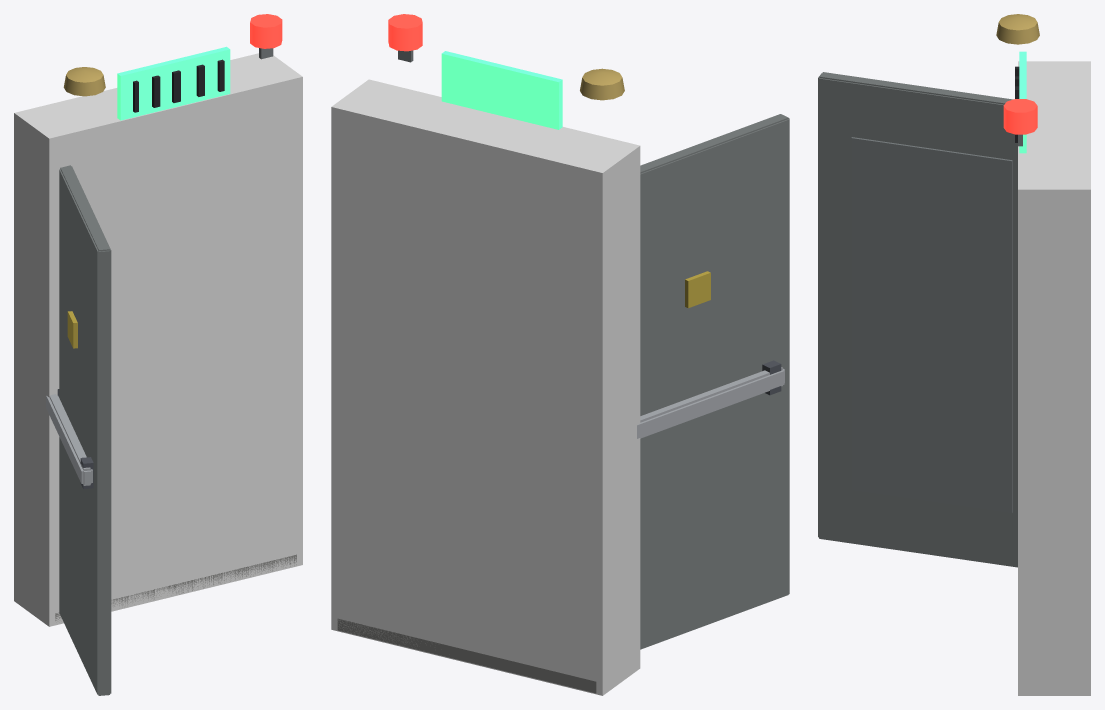
The model's file is door_emergency.glb.
3 renders of one model, left to right at view 1: azimuth 30°, elevation 25°; view 2: azimuth 150°, elevation 25°; view 3: azimuth 270°, elevation 25°, orthographic. The views are drawn at different scales.
Visible parts, largest first — view 1: door_emergency-col, door_anim_mesh, frame_mesh, door_open_mesh, beacon_dome, bell; view 2: door_emergency-col, door_anim_mesh, frame_mesh, door_open_mesh, beacon_dome, bell; view 3: door_anim_mesh, door_open_mesh, door_emergency-col, beacon_dome, bell, frame_mesh.
Part boxes in pixels (<box>): door_emergency-col: <box>14,53,302,626</box>; door_anim_mesh: <box>46,165,111,695</box>; frame_mesh: <box>55,46,296,620</box>; door_open_mesh: <box>49,166,111,695</box>; beacon_dome: <box>250,14,282,48</box>; bell: <box>63,67,105,96</box>; door_emergency-col: <box>331,79,640,695</box>; door_anim_mesh: <box>637,114,789,649</box>; frame_mesh: <box>337,51,596,693</box>; door_open_mesh: <box>640,114,789,417</box>; beacon_dome: <box>388,14,422,51</box>; bell: <box>580,68,624,100</box>; door_anim_mesh: <box>818,72,1017,567</box>; door_open_mesh: <box>818,72,1017,566</box>; door_emergency-col: <box>1018,61,1090,695</box>; beacon_dome: <box>1003,99,1037,134</box>; bell: <box>996,14,1039,44</box>; frame_mesh: <box>1015,51,1026,153</box>.
Size of the model in its own units: 1.5 by 2.61 by 1.12.
